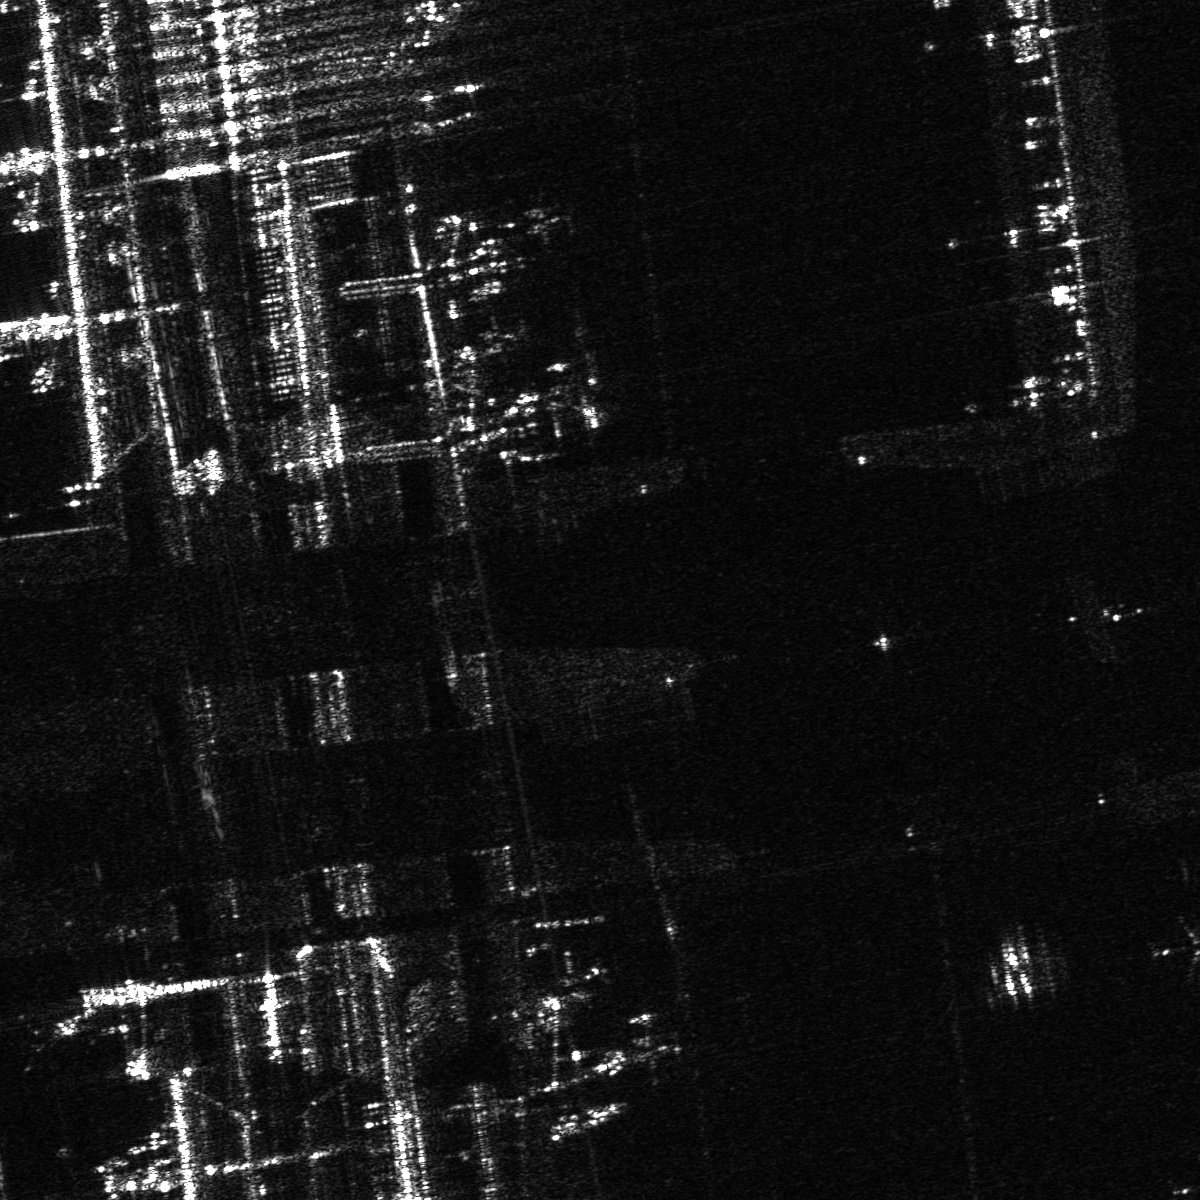Boeing737: (543, 377, 609, 437), (552, 949, 610, 1005)
